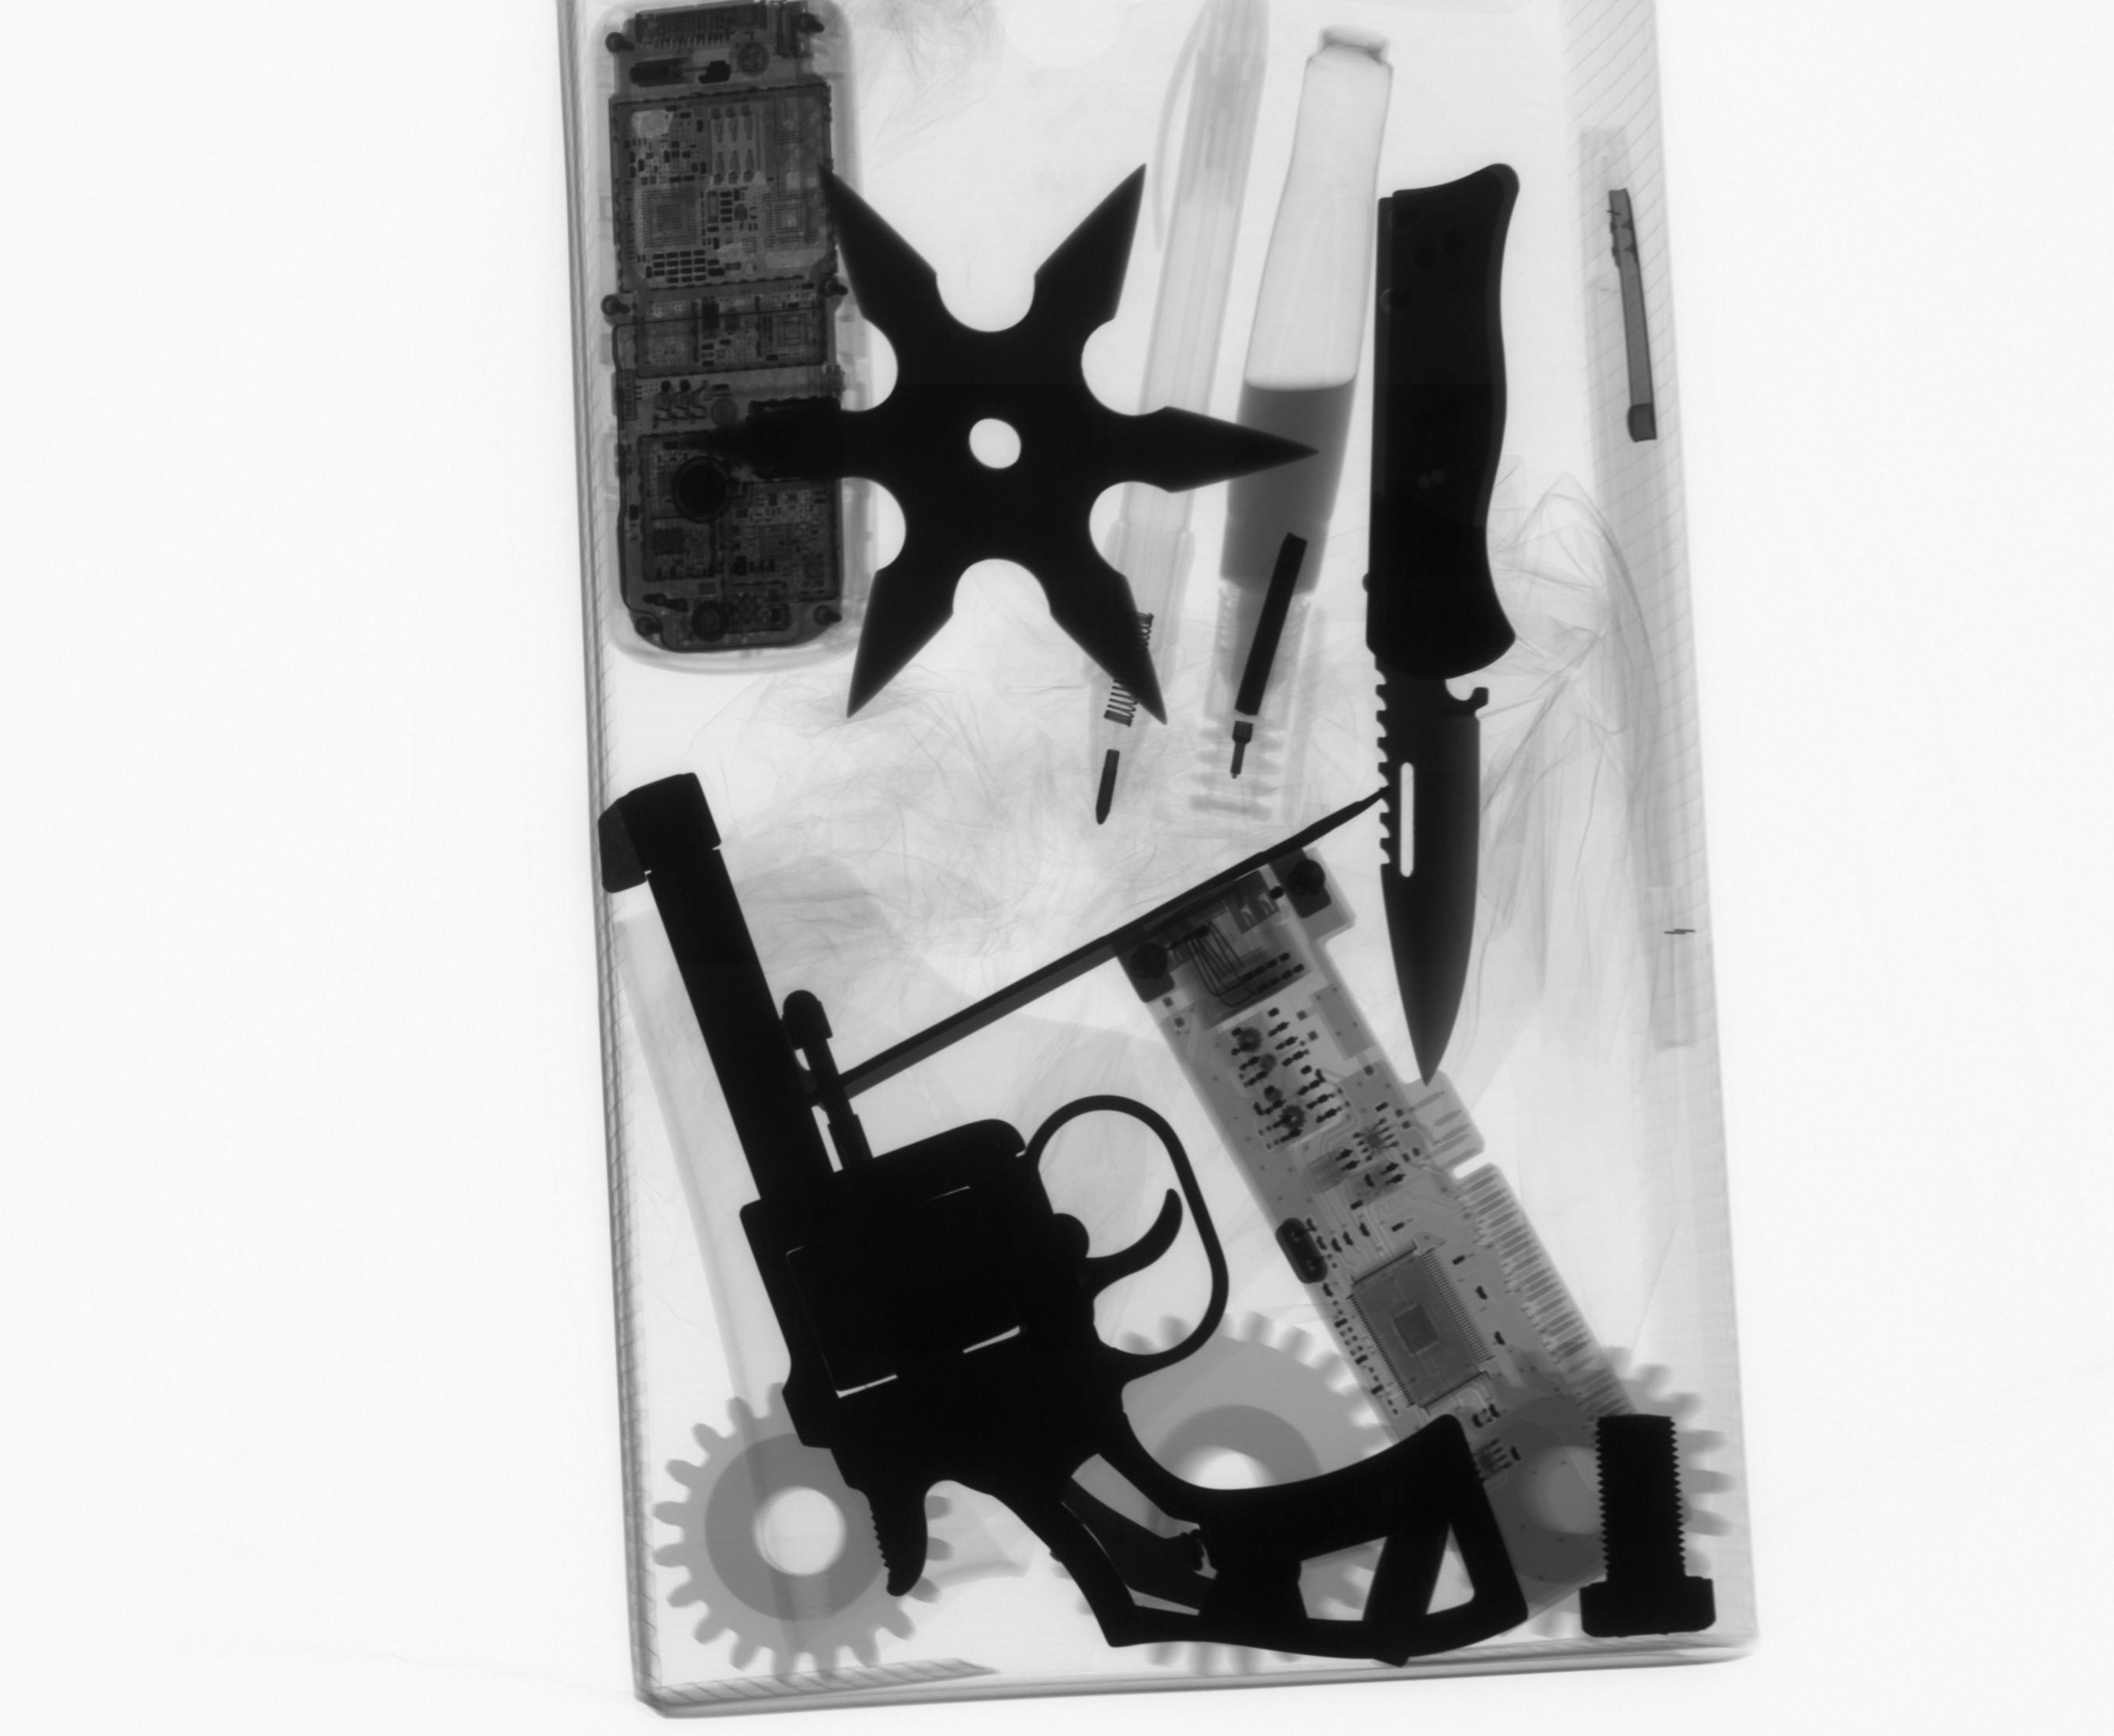Handgun: (598, 762, 1540, 1659)
Knife: (1353, 156, 1526, 1089)
Shuriken: (664, 160, 1321, 742)
